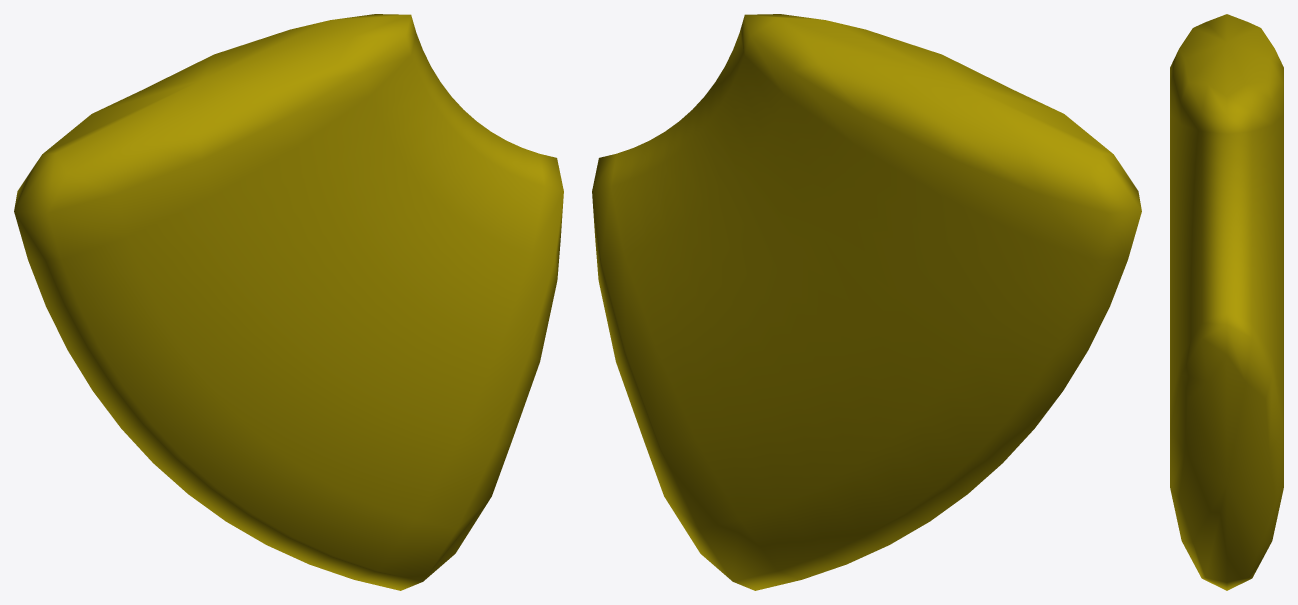
File: Yellow.glb
3 views of the same model, side by side, from view 1: azimuth 30°, elevation 25°; view 2: azimuth 150°, elevation 25°; view 3: azimuth 270°, elevation 25° (orthographic). The views are drawn at different scales.
Parts seen in each view (by area): view 1: Yellow; view 2: Yellow; view 3: Yellow.
Boxes of the visible parts, x1,y1,x2,y2 form: Yellow: [14, 14, 563, 590]; Yellow: [592, 14, 1141, 590]; Yellow: [1170, 14, 1283, 590].
Size of the model in its own units: 82.58 by 84.19 by 17.92.
